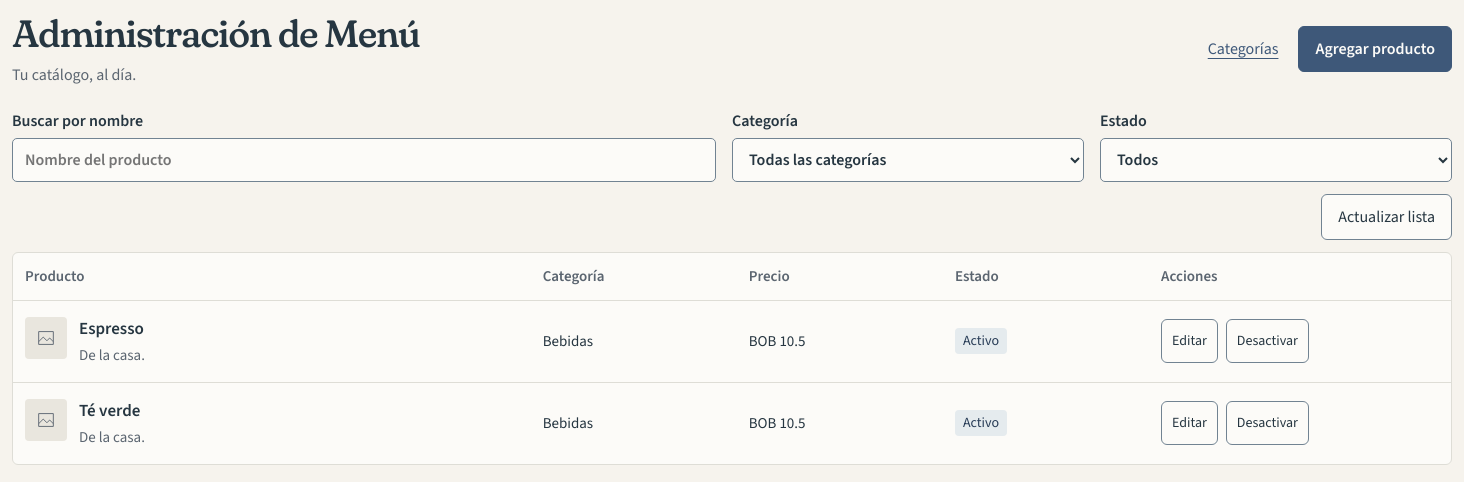
US-009 activación con el cliente real › CA-01/CA-02 desactiva: etiqueta Inactivo, al final y visible con el filtro inactivos
The width and height of the screenshot is (1464, 482).
Expected: the text "Espresso" is shown, [79,317,144,341]
Click the button with aria-label "Desactivar Espresso": point(1267, 341) [1226,319,1309,363]
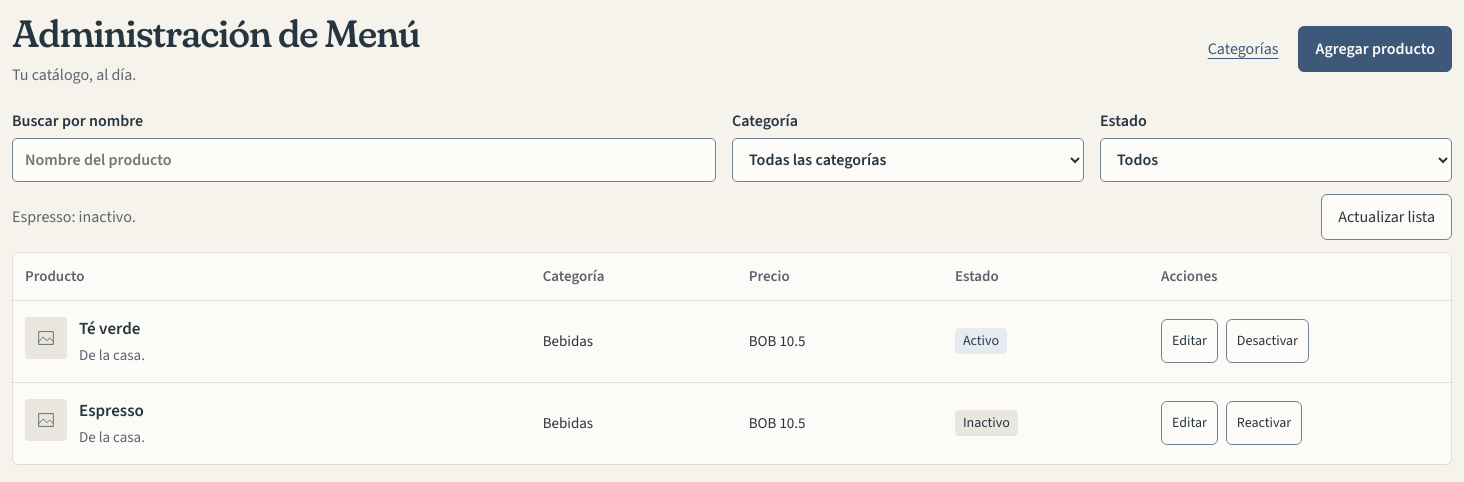
Expected: the button with aria-label "Reactivar Espresso" is shown, [1226,401,1302,445]
Expected: the message reads "Espresso: inactivo.", [12,206,136,228]
Expected: the text "Inactivo" is shown, [955,410,1018,436]
Select "Inactivos" in the dropdown labelled "Estado": point(1276, 160) [1100,138,1452,182]
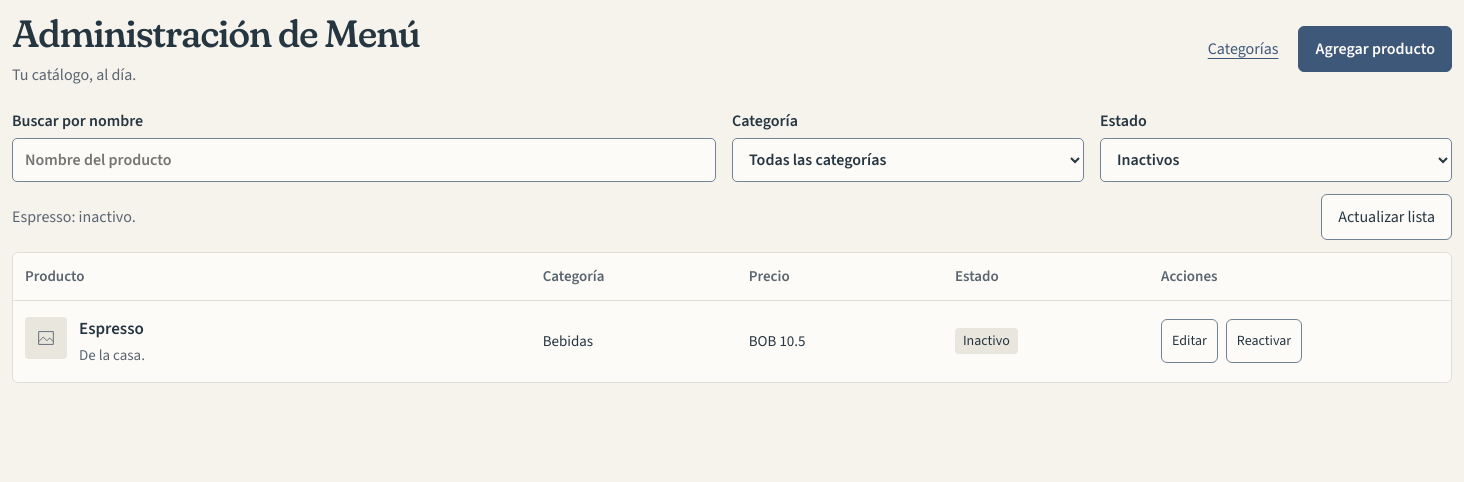
Expected: the number of rows is 2, [13,253,1451,300]; [13,301,1451,382]
Expected: the text "Té verde" is gone
